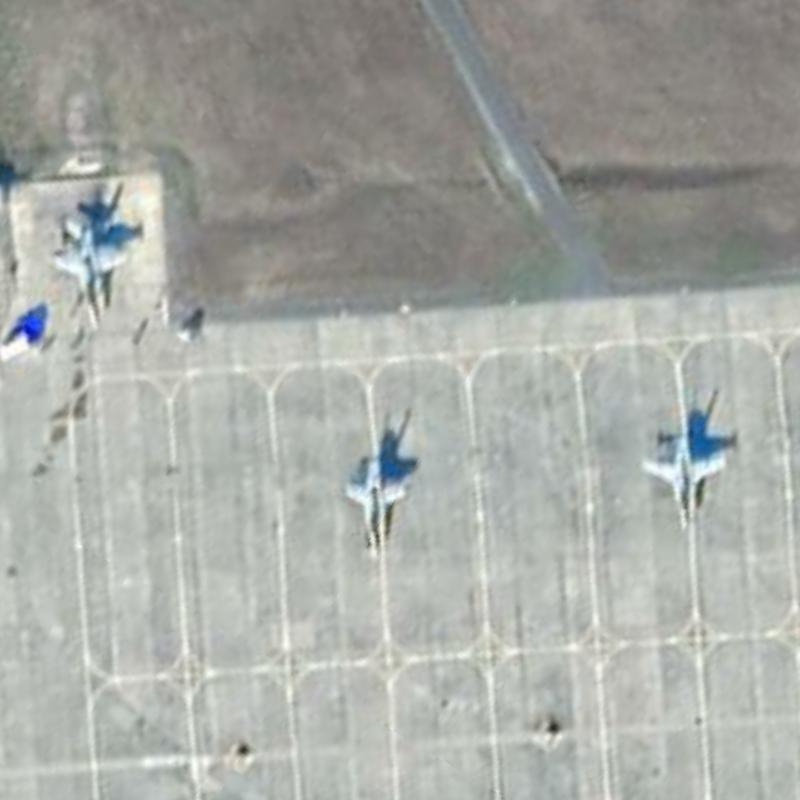A16: (636, 420, 731, 541), (46, 214, 134, 335), (330, 447, 417, 564)
